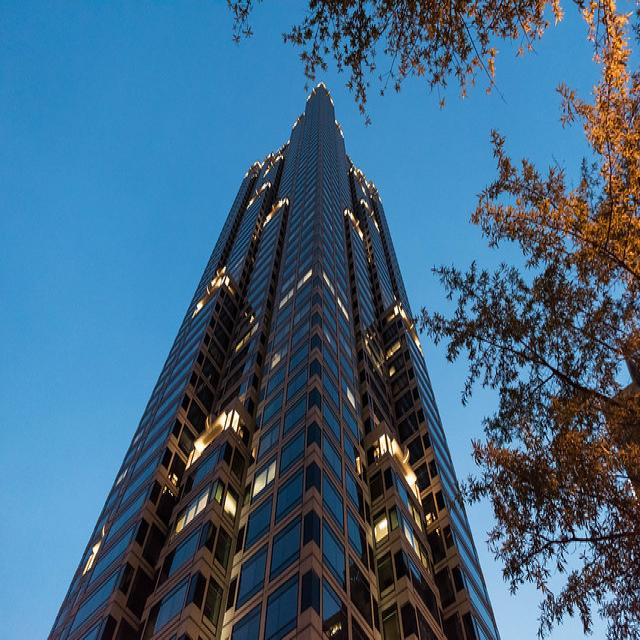Normal_building: (39, 73, 506, 640)
